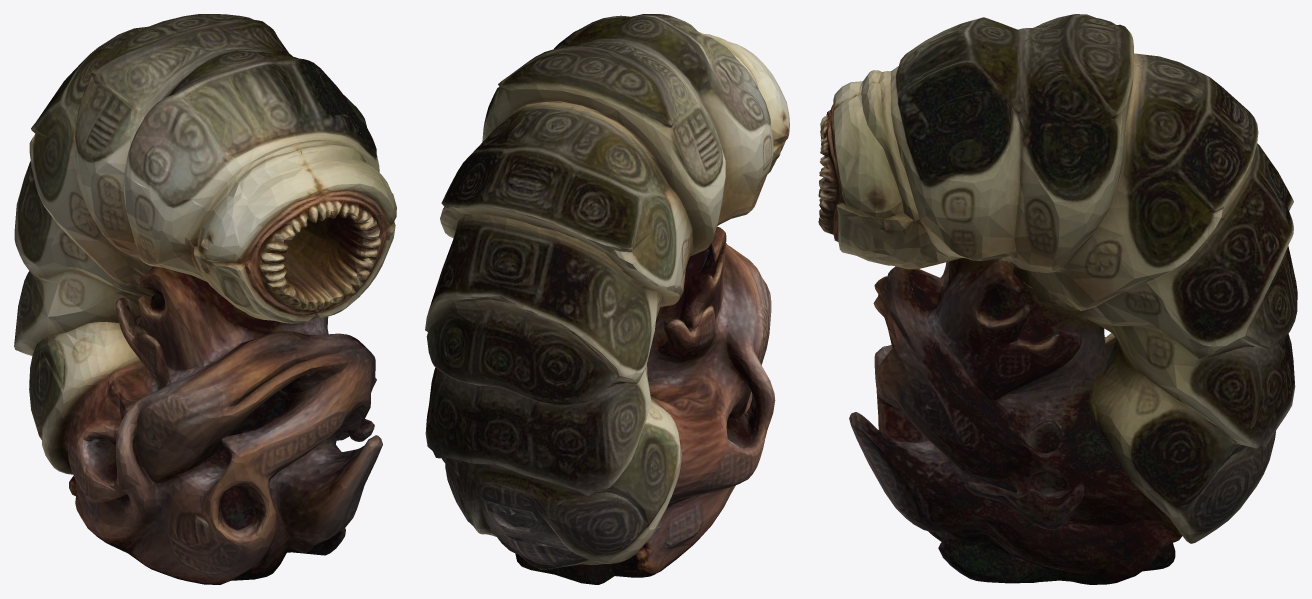
Rendered from rootWorm.glb.
3 renders of one model, left to right at view 1: azimuth 30°, elevation 25°; view 2: azimuth 150°, elevation 25°; view 3: azimuth 270°, elevation 25°, orthographic. The views are drawn at different scales.
Parts seen in each view (by area): view 1: world; view 2: world; view 3: world.
Part boxes in pixels (box(x1,y1,x2,y2)): world: box(14, 14, 396, 584); world: box(425, 14, 789, 584); world: box(818, 14, 1297, 584).
Bounding box in the file's own units: 0.5447 × 0.9938 × 0.83.
1 material, 1 textured.
